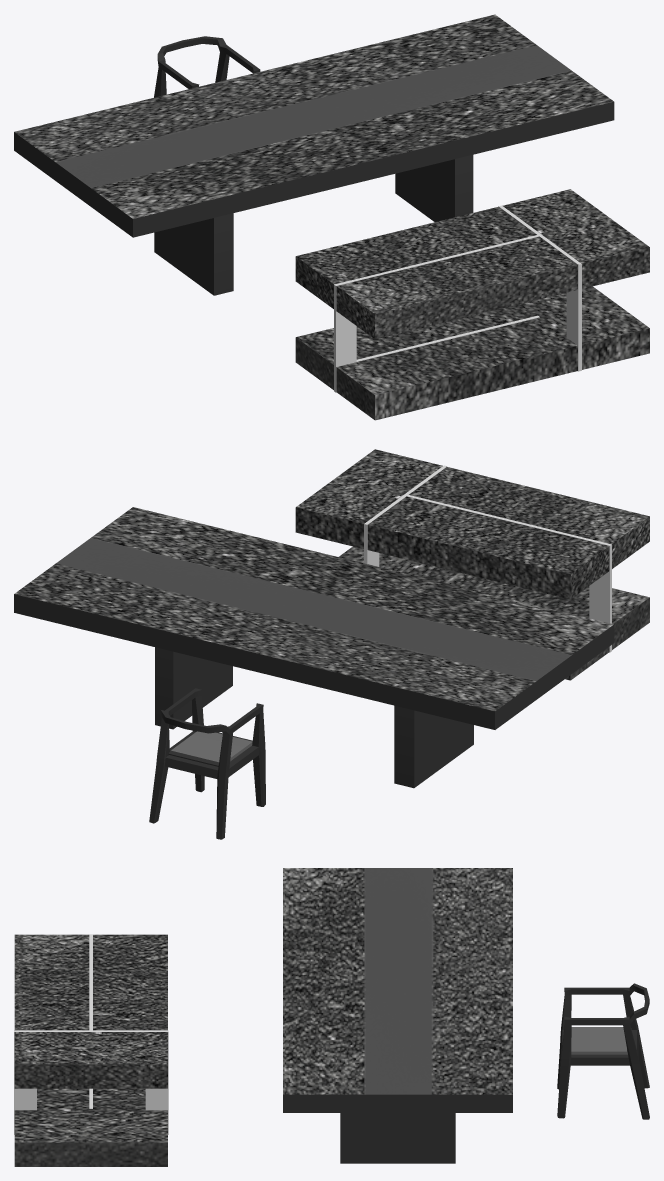
Rendered from HouseAssets.fbx.
The picture shows the model from 3 angles, top to bottom: view 1: azimuth 30°, elevation 25°; view 2: azimuth 150°, elevation 25°; view 3: azimuth 270°, elevation 25°; orthographic projection. The views are drawn at different scales.
Parts seen in each view (by area): view 1: DiningRoomTable, LivingRoomTable003, DiningChair001; view 2: DiningRoomTable, LivingRoomTable003, DiningChair001; view 3: DiningRoomTable, LivingRoomTable003, DiningChair001.
Boxes of the visible parts, left/top/right/bottom form: DiningRoomTable: left=14, top=14, right=614, bottom=295; LivingRoomTable003: left=295, top=189, right=649, bottom=420; DiningChair001: left=154, top=36, right=260, bottom=97; DiningRoomTable: left=14, top=507, right=614, bottom=788; LivingRoomTable003: left=295, top=449, right=649, bottom=680; DiningChair001: left=149, top=688, right=265, bottom=839; DiningRoomTable: left=283, top=868, right=512, bottom=1163; LivingRoomTable003: left=14, top=934, right=168, bottom=1166; DiningChair001: left=557, top=983, right=649, bottom=1119.
Size of the model in its own units: 14 by 3.51 by 16.6.
